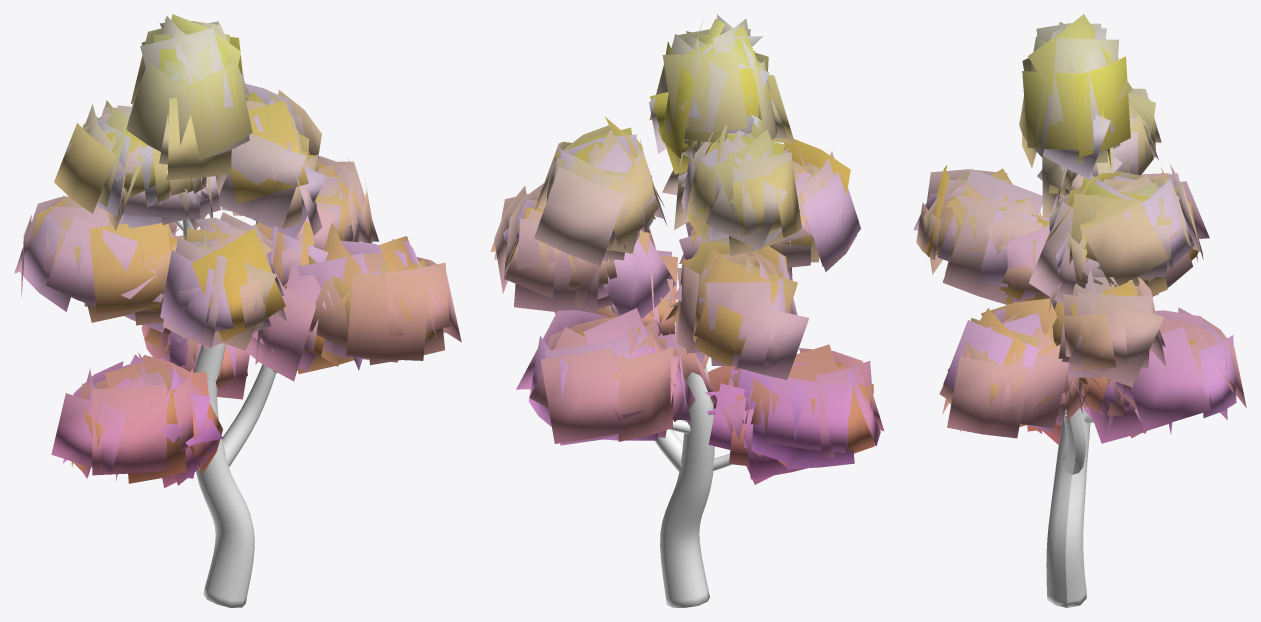
File: ashe-juniper-v1.glb
The picture shows the model from 3 angles, left to right: view 1: azimuth 30°, elevation 25°; view 2: azimuth 150°, elevation 25°; view 3: azimuth 270°, elevation 25°; orthographic projection. The views are drawn at different scales.
Parts seen in each view (by area): view 1: Leaves, Trunk; view 2: Leaves, Trunk; view 3: Leaves, Trunk.
Boxes of the visible parts, left/top/right/bottom form: Leaves: left=14, top=14, right=461, bottom=487; Trunk: left=175, top=219, right=277, bottom=607; Leaves: left=490, top=14, right=884, bottom=484; Trunk: left=609, top=305, right=731, bottom=607; Leaves: left=913, top=14, right=1246, bottom=444; Trunk: left=1046, top=406, right=1093, bottom=607.
Bounding box in the file's own units: 4.37 × 6.9 × 3.7.
